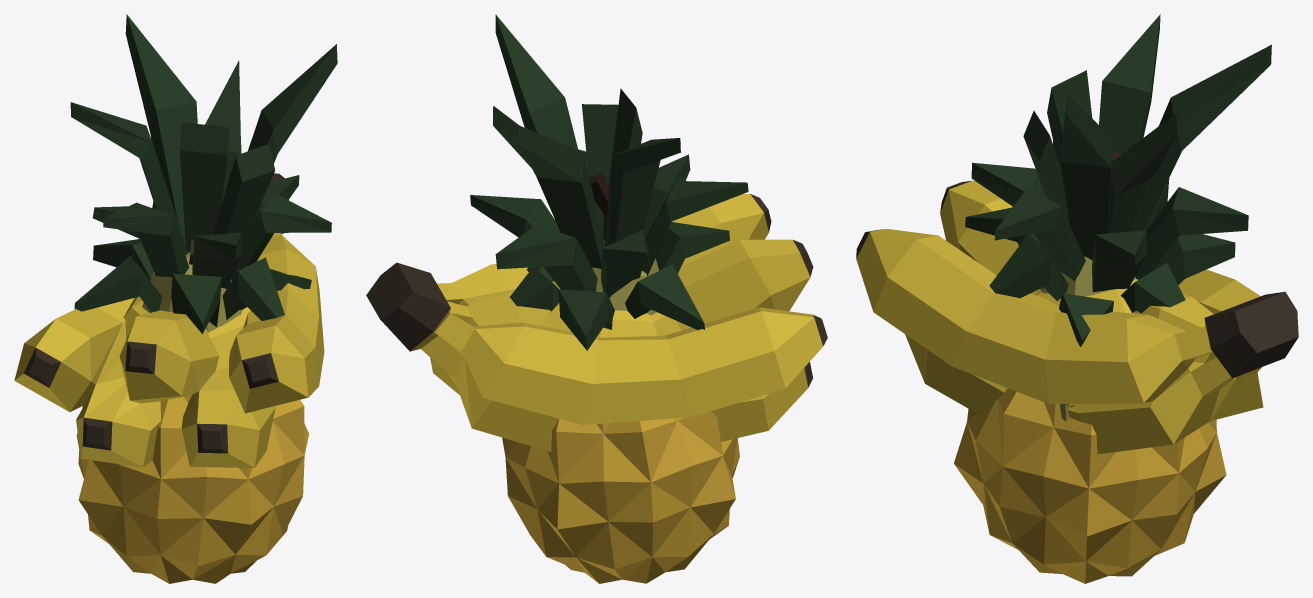
File: fructs.fbx
The picture shows the model from 3 angles, left to right: view 1: azimuth 30°, elevation 25°; view 2: azimuth 150°, elevation 25°; view 3: azimuth 270°, elevation 25°; orthographic projection. The views are drawn at different scales.
Parts seen in each view (by area): view 1: Ananas, Banana, Apple01, Pear01; view 2: Ananas, Banana, Apple01, Pear01; view 3: Ananas, Banana, Pear01, Apple01.
Boxes of the visible parts, x1,y1,x2,y2 form: Ananas: [70, 14, 337, 583]; Banana: [14, 173, 324, 467]; Apple01: [123, 239, 250, 370]; Pear01: [142, 252, 242, 332]; Ananas: [470, 14, 748, 583]; Banana: [366, 193, 827, 451]; Apple01: [541, 230, 681, 337]; Pear01: [589, 173, 658, 315]; Ananas: [954, 14, 1271, 583]; Banana: [856, 180, 1298, 454]; Pear01: [1040, 153, 1135, 421]; Apple01: [1030, 279, 1138, 407].
Bounding box in the file's own units: 38.37 × 51.15 × 38.19.
